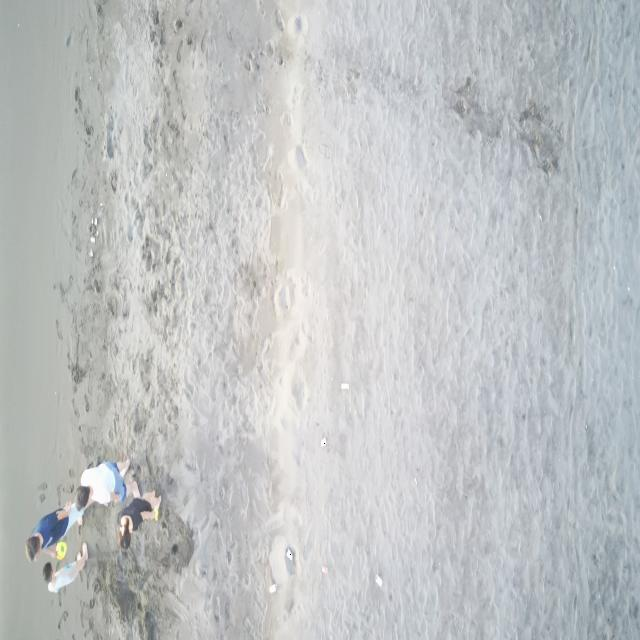tin-and-aluminum-cans: (375, 573, 383, 588), (286, 549, 294, 562), (269, 582, 277, 594), (341, 382, 350, 390), (320, 438, 327, 448), (322, 564, 328, 574)
